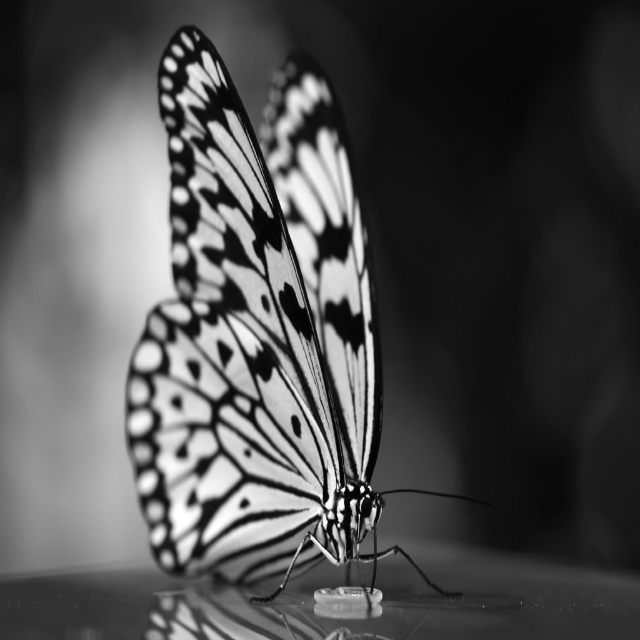Butterfly: (123, 34, 471, 640)
